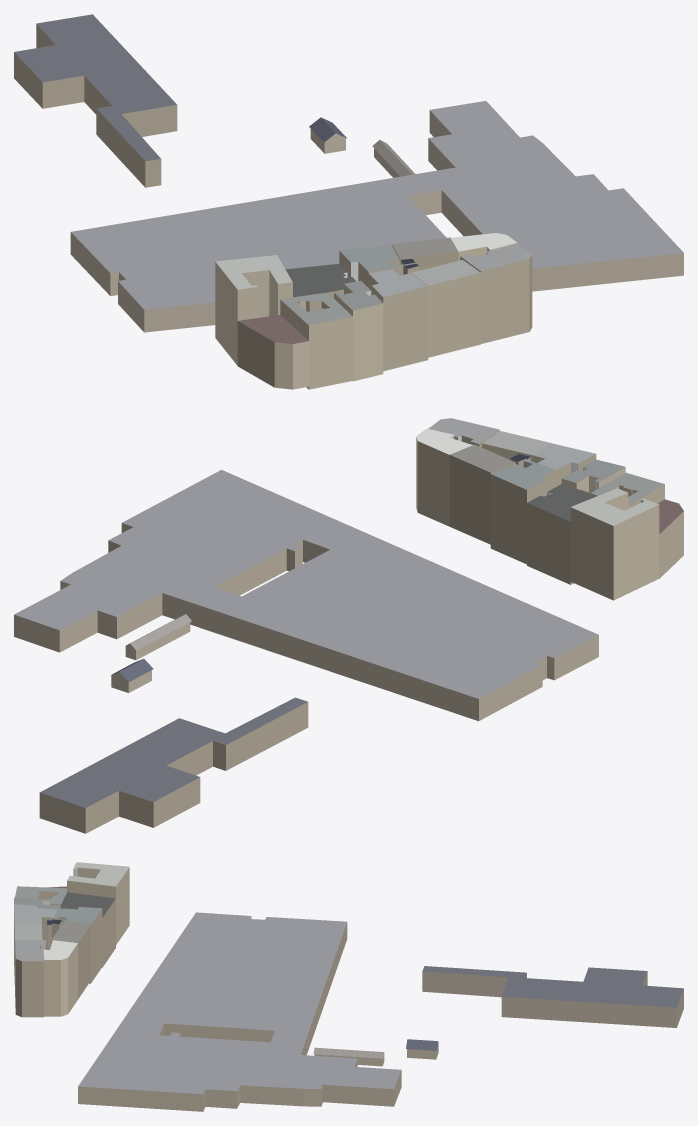
3 views of the same model, one above another, from view 1: azimuth 30°, elevation 25°; view 2: azimuth 150°, elevation 25°; view 3: azimuth 270°, elevation 25° (orthographic). The views are drawn at different scales.
Visible parts, largest first — view 1: tuile; view 2: tuile; view 3: tuile.
Boxes of the visible parts, bbox=[...] form: tuile: bbox=[14, 14, 683, 389]; tuile: bbox=[14, 418, 683, 833]; tuile: bbox=[14, 862, 683, 1111].
Size of the model in its own units: 151 by 28.7 by 234.
